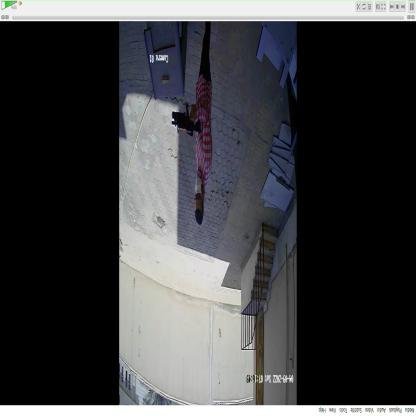handgun: (169, 104, 204, 141)
